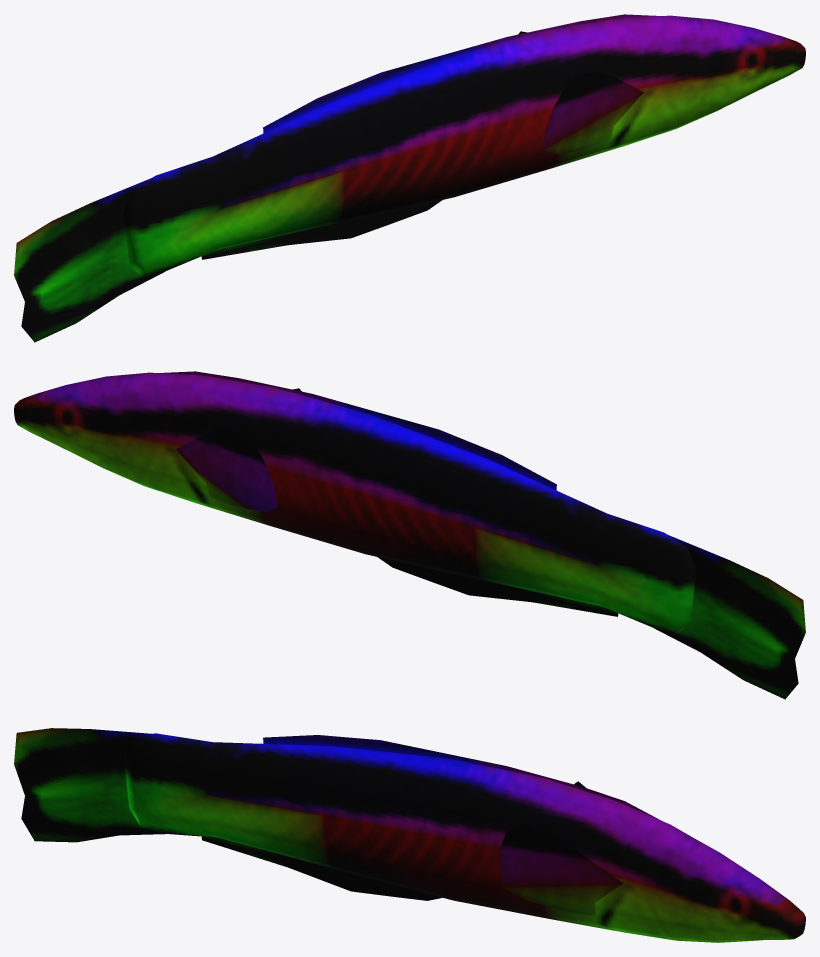
File: cleaner_wrasse.glb
3 renders of one model, top to bottom at view 1: azimuth 30°, elevation 25°; view 2: azimuth 150°, elevation 25°; view 3: azimuth 330°, elevation 25°, orthographic.
Parts seen in each view (by area): view 1: CleanerWrasse; view 2: CleanerWrasse; view 3: CleanerWrasse.
Boxes of the visible parts, <box> form: CleanerWrasse: <box>14,14,805,342</box>; CleanerWrasse: <box>14,371,805,699</box>; CleanerWrasse: <box>14,728,805,942</box>.
Size of the model in its own units: 1 by 0.2299 by 0.126.
1 material, 1 textured.
